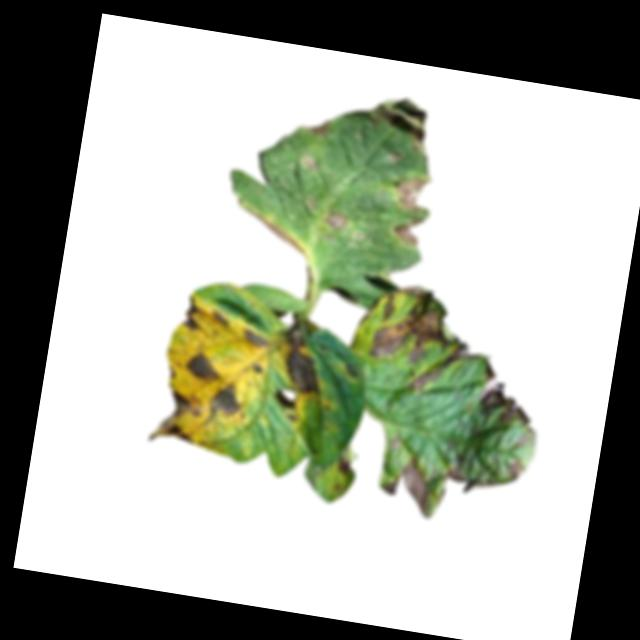Early_blight: (359, 278, 490, 399), (355, 87, 435, 155), (272, 311, 331, 398), (145, 384, 211, 452), (476, 359, 541, 427), (240, 207, 313, 256), (378, 453, 435, 515), (392, 171, 433, 212), (208, 379, 247, 420), (182, 347, 223, 383), (391, 210, 427, 247), (179, 293, 205, 331), (237, 325, 273, 350), (322, 206, 349, 231), (306, 115, 333, 138), (442, 463, 468, 485), (505, 455, 527, 479), (209, 306, 232, 326), (335, 456, 354, 477), (341, 359, 360, 377), (253, 361, 263, 373)
